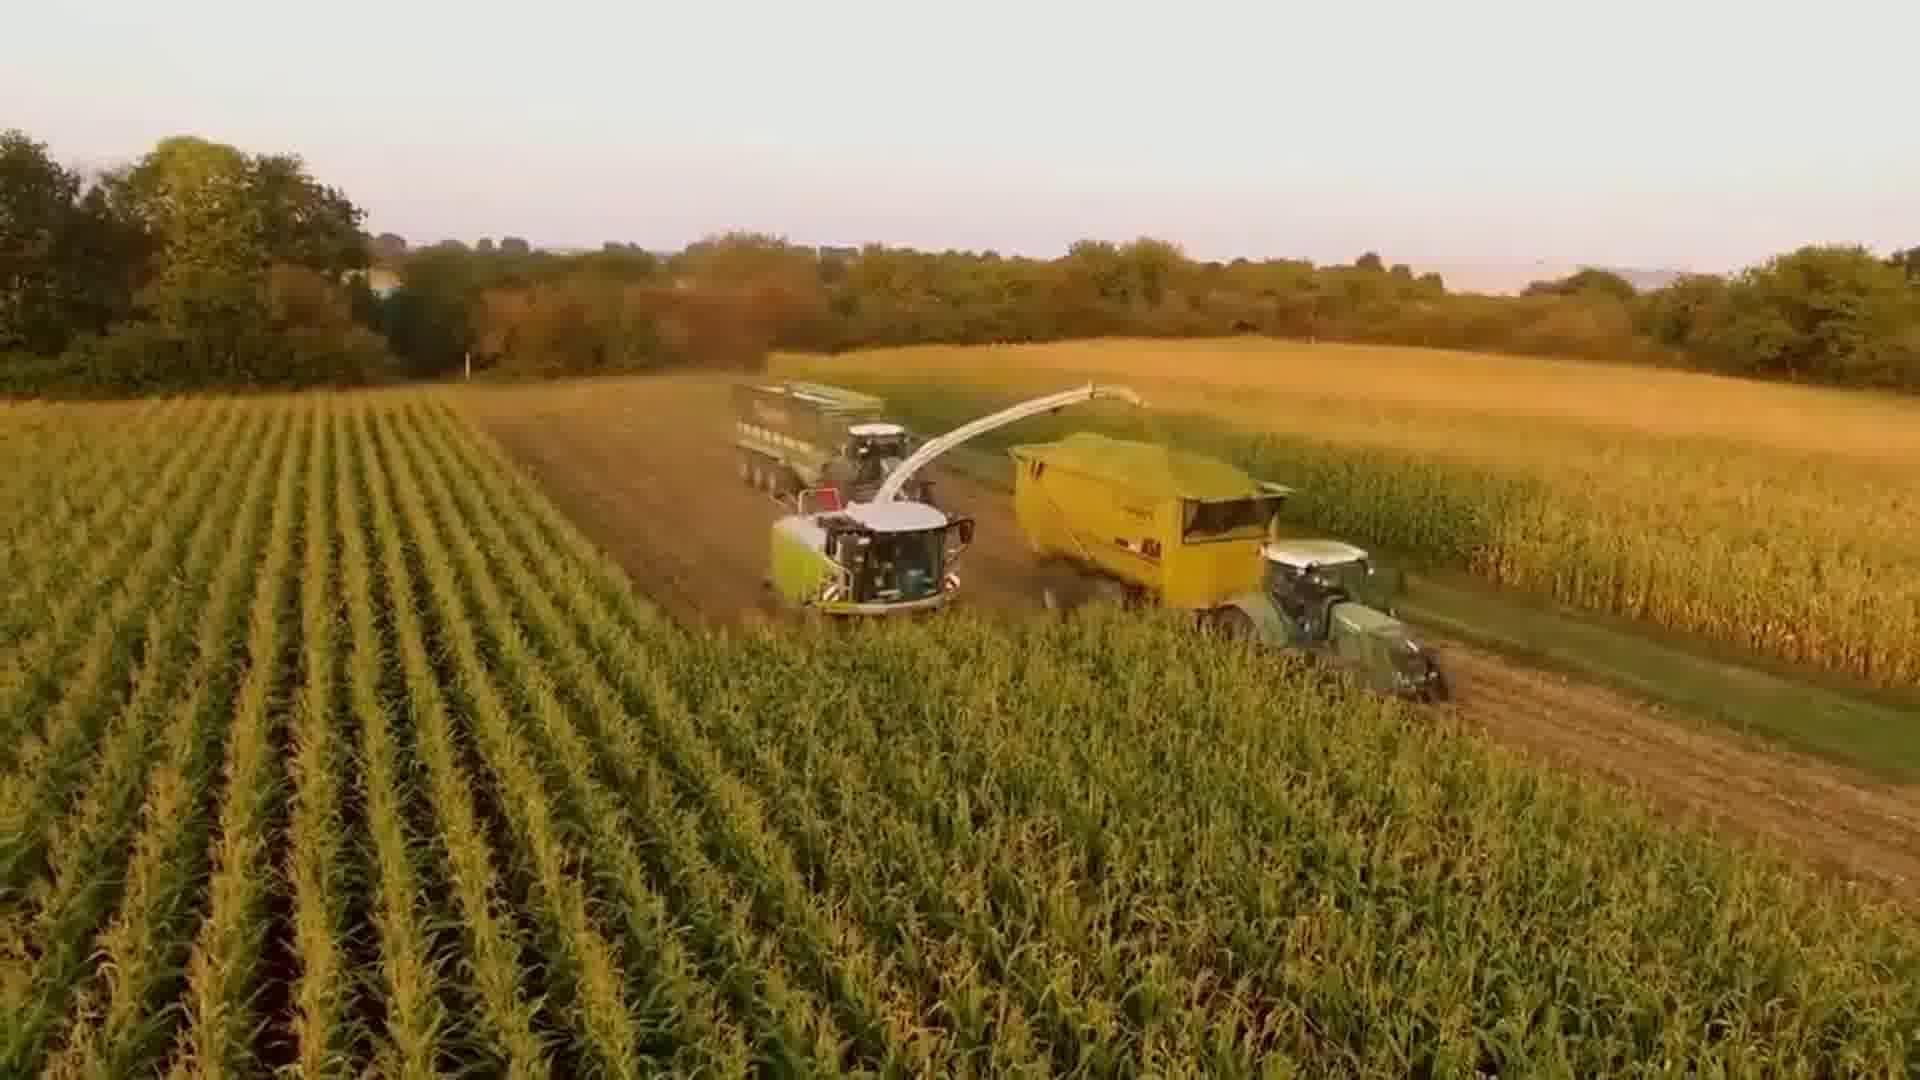combine harvester: (753, 377, 1116, 647)
tractor: (1196, 530, 1461, 720), (824, 418, 939, 504)
trailer: (997, 421, 1298, 637), (732, 373, 891, 496)
